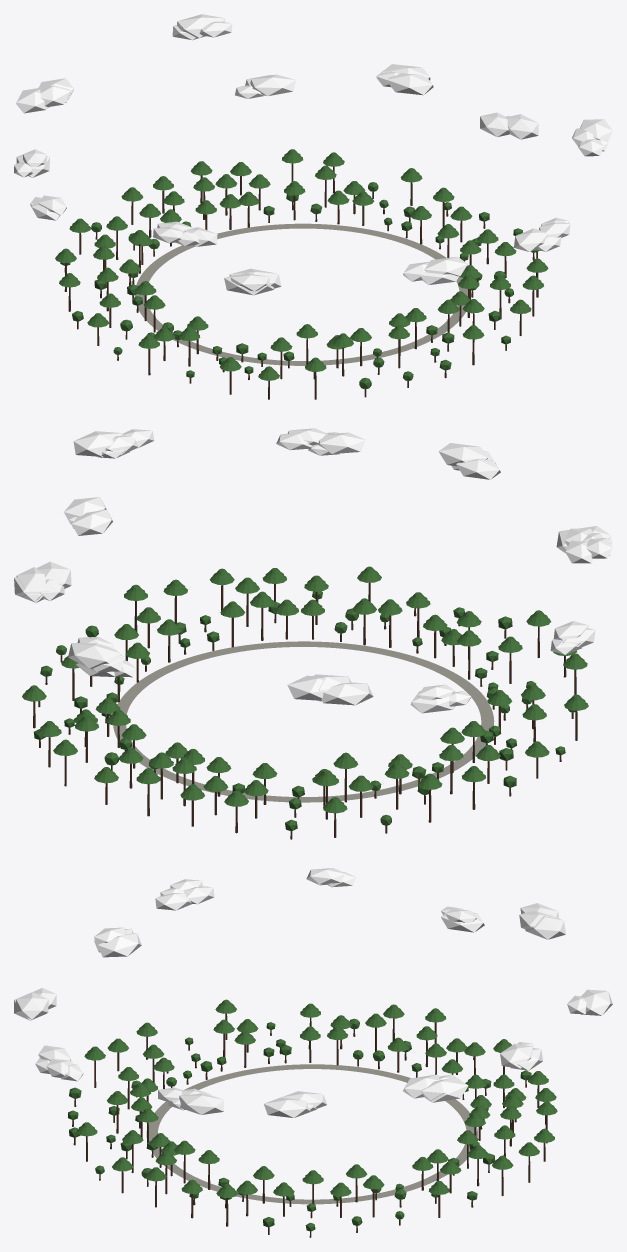
The model's file is cidade_fundo.glb.
3 views of the same model, one above another, from view 1: azimuth 30°, elevation 25°; view 2: azimuth 150°, elevation 25°; view 3: azimuth 270°, elevation 25° (orthographic). The views are drawn at different scales.
Visible parts, largest first — view 1: cidade_Arvore, cidade_Nuvem, cidade_Madeira, cidade_Calcada; view 2: cidade_Arvore, cidade_Nuvem, cidade_Madeira, cidade_Calcada; view 3: cidade_Arvore, cidade_Nuvem, cidade_Madeira, cidade_Calcada.
Boxes of the visible parts, bbox=[...] form: cidade_Arvore: bbox=[55, 149, 548, 389]; cidade_Nuvem: bbox=[14, 14, 612, 295]; cidade_Madeira: bbox=[64, 163, 538, 399]; cidade_Calcada: bbox=[134, 223, 467, 365]; cidade_Arvore: bbox=[22, 566, 588, 831]; cidade_Nuvem: bbox=[14, 428, 612, 713]; cidade_Madeira: bbox=[33, 582, 577, 839]; cidade_Calcada: bbox=[113, 641, 494, 802]; cidade_Arvore: bbox=[68, 999, 557, 1231]; cidade_Nuvem: bbox=[14, 868, 612, 1117]; cidade_Madeira: bbox=[72, 1013, 547, 1237]; cidade_Calcada: bbox=[146, 1064, 477, 1204].
Bounding box in the file's own units: 181 × 54.84 × 186.
